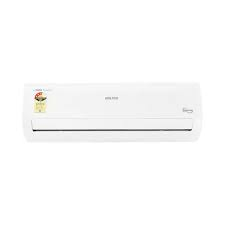ac: (20, 79, 204, 143)
